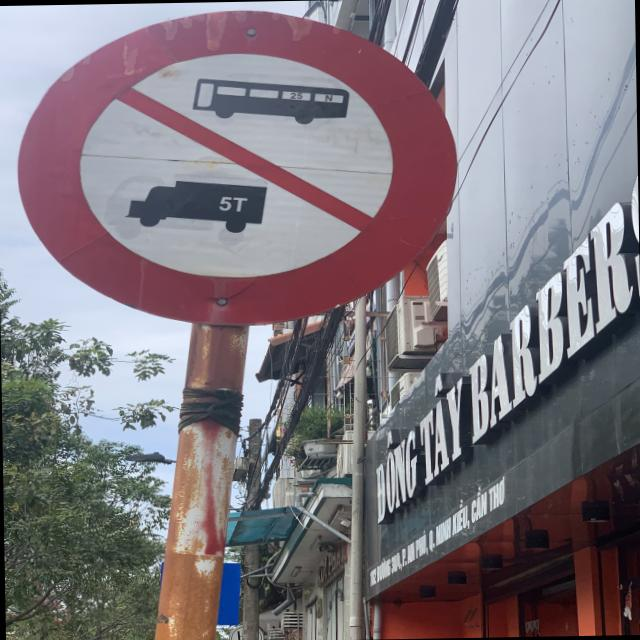Cam_XeTai_XeKhach: (10, 1, 460, 332)
